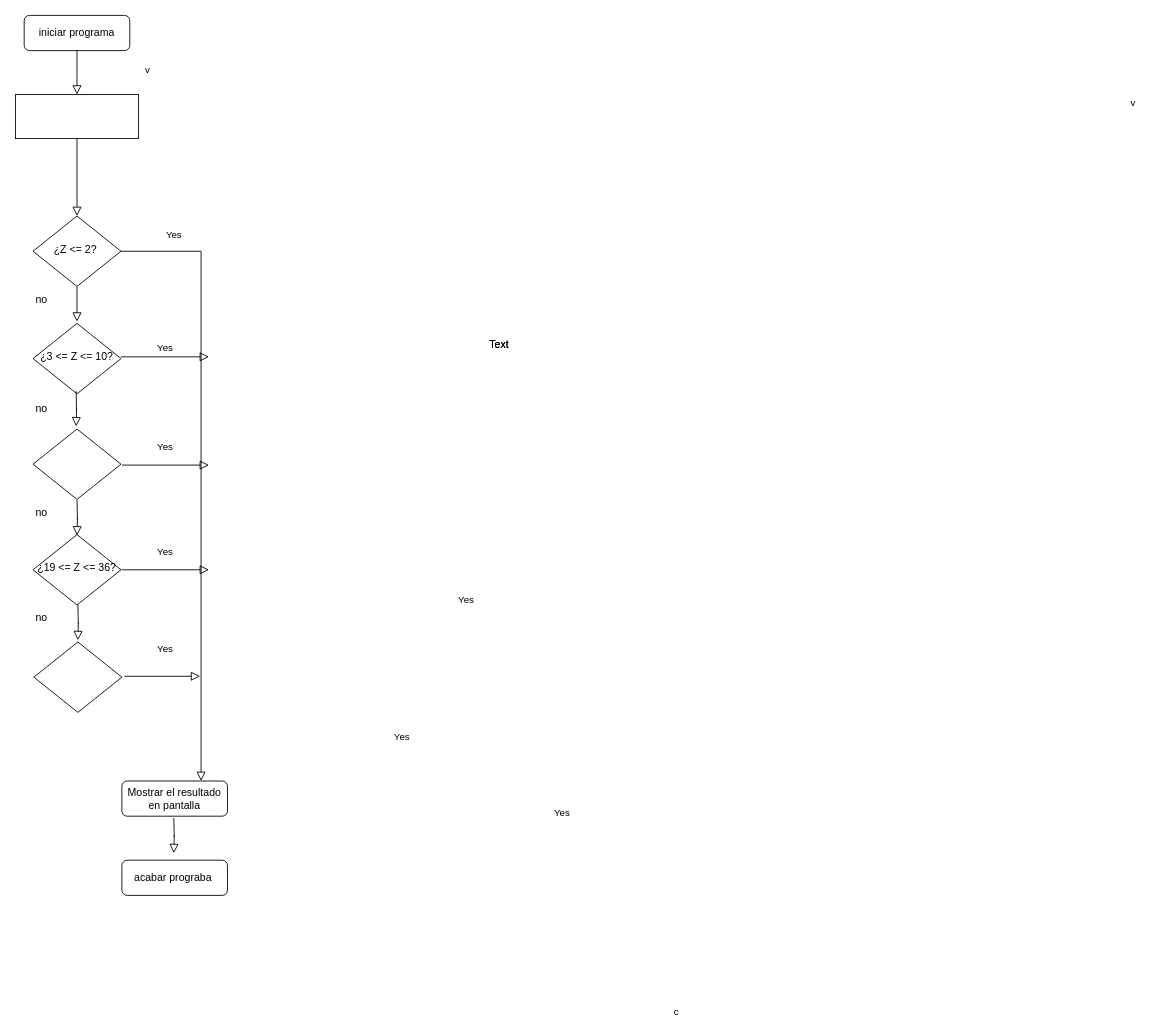
Image size: 1151x1032. Some labels were removed from this diagram. The shapes that lost their labels are listed below. From the top down, each one's box as (x1, y1, x2, y2) in pixels, then its label:
(15, 94, 139, 139): Pedir al usuario que ingrese un Número (Z)
(32, 428, 121, 499): ¿11 <= Z <= 18?
(33, 641, 122, 712): ¿Z > 36?
